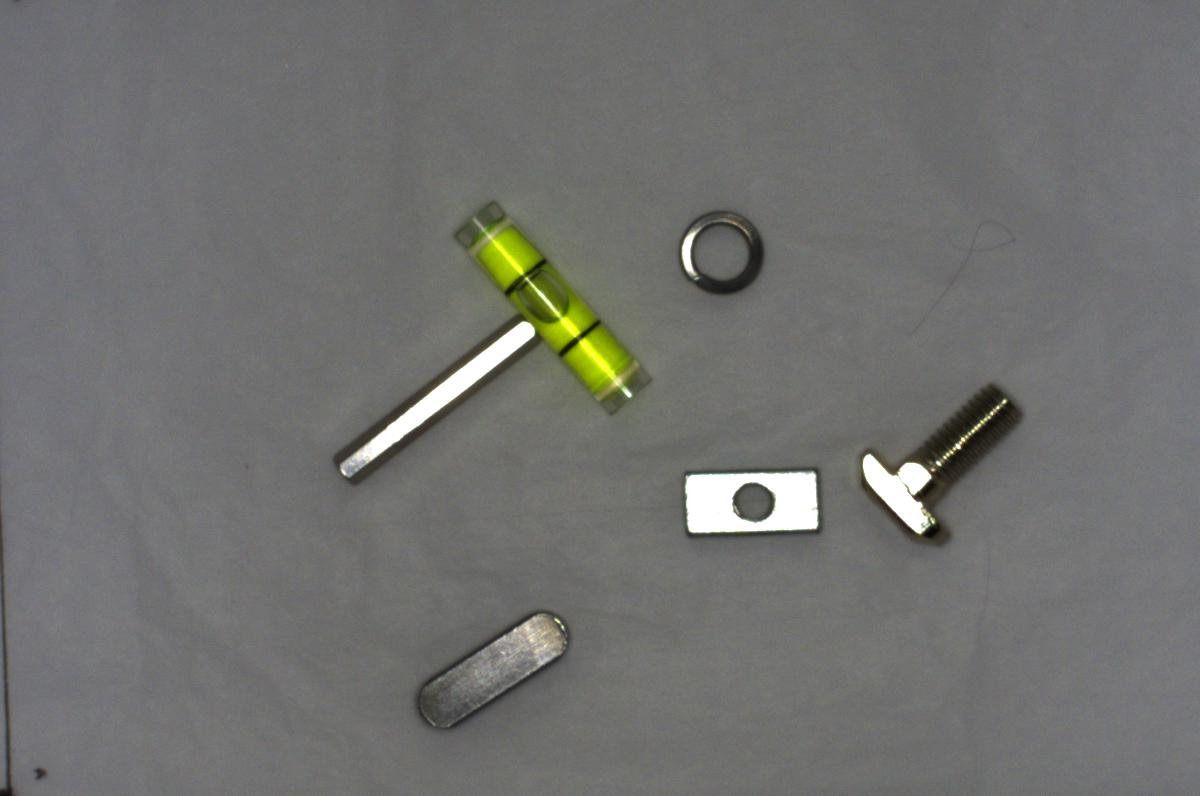Double hexagonal column: (334, 309, 545, 482)
Horizontal bubble: (454, 195, 661, 416)
Keybar: (400, 606, 578, 734)
Rectangular nut: (682, 462, 824, 543)
Spring washer: (677, 205, 770, 303)
T-shaped screw: (844, 370, 1032, 549)
